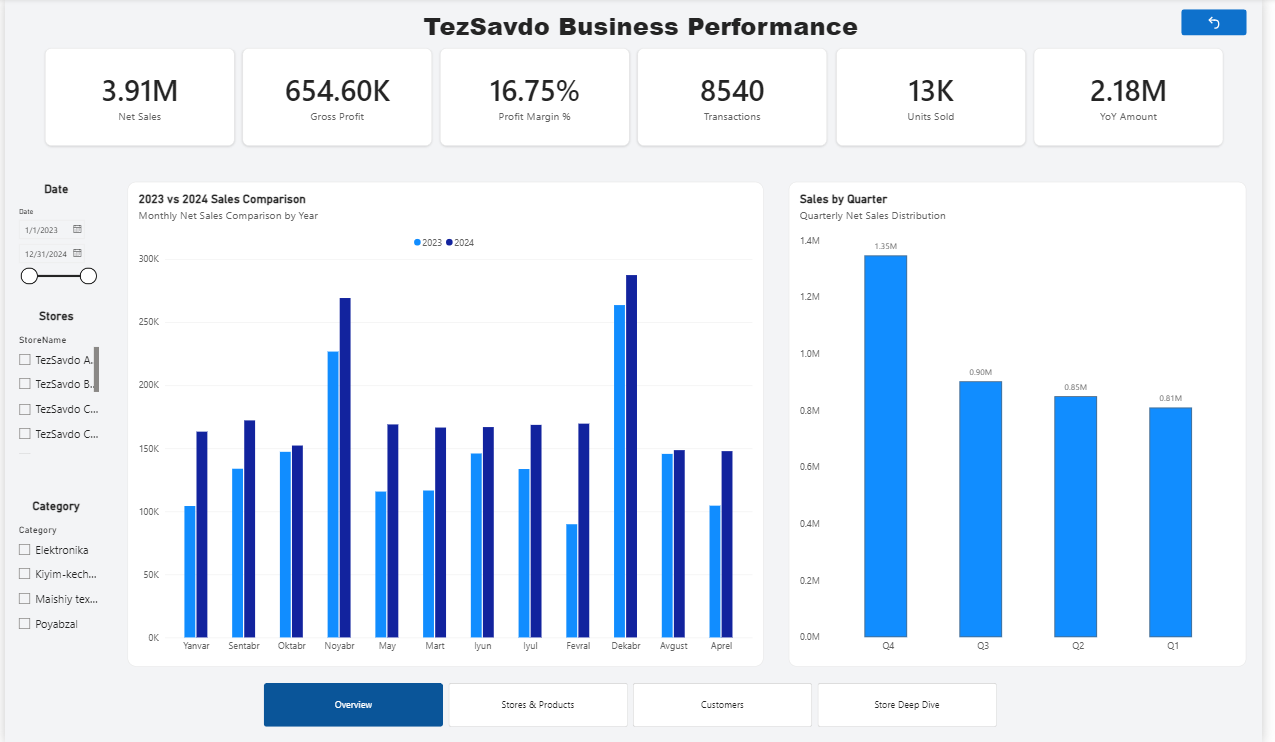

The dashboard page shown, as its layout file describes it:
{"tool":"powerbi","page":{"name":"Overview","canvas":[1920,1140],"ordinal":0},"visuals":[{"type":"group","id":"g1","title":"Group 1","box":[60.6,75.7,1800.6,149.3],"z":0},{"type":"card","fields":{"Values":["TabelMeasures.Net Sales"]},"box":[60.6,75.7,290,149.3],"z":0,"group":"g1"},{"type":"card","fields":{"Values":["TabelMeasures.Gross Profit"]},"box":[362.7,75.7,290,149.3],"z":1000,"group":"g1"},{"type":"slicer","title":"Date","fields":{"Values":["Dim_Calendar.Date"]},"box":[13.3,280,129.8,192.6],"z":1000},{"type":"card","fields":{"Values":["TabelMeasures.Profit Margin %"]},"box":[664.8,75.7,290,149.3],"z":2000,"group":"g1"},{"type":"clusteredColumnChart","title":"Sales by Quarter","fields":{"Category":["Dim_Calendar.Quarter"],"Y":["TabelMeasures.Net Sales"]},"box":[1197.7,280.8,699.1,741.2],"z":2000},{"type":"card","fields":{"Values":["TabelMeasures.Transactions"]},"box":[966.9,75.7,290,149.3],"z":3000,"group":"g1"},{"type":"clusteredColumnChart","title":"2023 vs 2024 Sales Comparison","fields":{"Category":["Dim_Calendar.Month"],"Series":["Dim_Calendar.Year"],"Y":["TabelMeasures.Net Sales"]},"box":[187.2,280.8,972.3,741.2],"z":3000},{"type":"slicer","title":"Category","fields":{"Values":["Dim_Product.Category"]},"box":[13.3,766.7,129.8,218.6],"z":3000},{"type":"textbox","box":[60,15,1825,85],"z":4000},{"type":"card","fields":{"Values":["TabelMeasures.Units Sold"]},"box":[1269.1,75.7,290,149.3],"z":4000,"group":"g1"},{"type":"card","fields":{"Values":["TabelMeasures.YoY Amount"]},"box":[1571.2,75.7,290,149.3],"z":5000,"group":"g1"},{"type":"slicer","title":"Stores","fields":{"Values":["Dim_Store.StoreName"]},"box":[14,476,130,220],"z":5000},{"type":"actionButton","box":[1797.5,17.5,100,40],"z":6000},{"type":"pageNavigator","box":[395,1047.5,1120,67],"z":7000}]}

Visuals, with their boxes in screenshot pixels (x1, y1, x2, y2), scaled from the page's 1920x1140 canvas onto the 1275x742 screenshot:
"Group 1" group: {"left": 40, "top": 49, "right": 1236, "bottom": 146}
card - TabelMeasures.Net Sales: {"left": 40, "top": 49, "right": 233, "bottom": 146}
card - TabelMeasures.Gross Profit: {"left": 241, "top": 49, "right": 433, "bottom": 146}
"Date" slicer: {"left": 9, "top": 182, "right": 95, "bottom": 308}
card - TabelMeasures.Profit Margin %: {"left": 441, "top": 49, "right": 634, "bottom": 146}
"Sales by Quarter" clusteredColumnChart: {"left": 795, "top": 183, "right": 1260, "bottom": 665}
card - TabelMeasures.Transactions: {"left": 642, "top": 49, "right": 835, "bottom": 146}
"2023 vs 2024 Sales Comparison" clusteredColumnChart: {"left": 124, "top": 183, "right": 770, "bottom": 665}
"Category" slicer: {"left": 9, "top": 499, "right": 95, "bottom": 641}
textbox: {"left": 40, "top": 10, "right": 1252, "bottom": 65}
card - TabelMeasures.Units Sold: {"left": 843, "top": 49, "right": 1035, "bottom": 146}
card - TabelMeasures.YoY Amount: {"left": 1043, "top": 49, "right": 1236, "bottom": 146}
"Stores" slicer: {"left": 9, "top": 310, "right": 96, "bottom": 453}
actionButton: {"left": 1194, "top": 11, "right": 1260, "bottom": 37}
pageNavigator: {"left": 262, "top": 682, "right": 1006, "bottom": 725}
